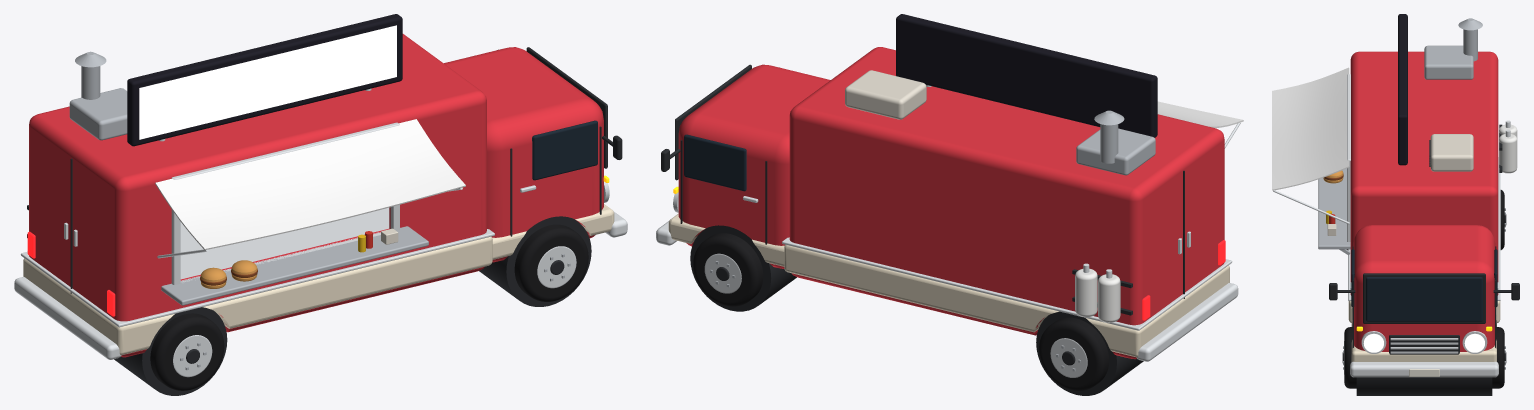
Rendered from food_truck_open.glb.
The picture shows the model from 3 angles, left to right: view 1: azimuth 30°, elevation 25°; view 2: azimuth 150°, elevation 25°; view 3: azimuth 270°, elevation 25°; orthographic projection. The views are drawn at different scales.
Visible parts, largest first — view 1: FoodTruck; view 2: FoodTruck; view 3: FoodTruck.
Boxes of the visible parts, x1,y1,x2,y2 form: FoodTruck: (14, 14, 627, 395); FoodTruck: (656, 14, 1243, 395); FoodTruck: (1272, 14, 1519, 395).
Size of the model in its own units: 7.6 by 4.15 by 4.02.
